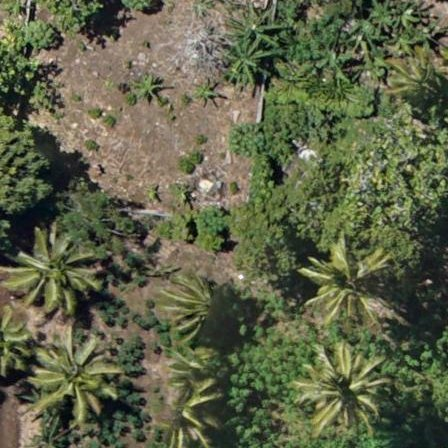palm_tree: (291, 338, 387, 440), (299, 239, 386, 332), (8, 222, 91, 311), (41, 335, 119, 418)
